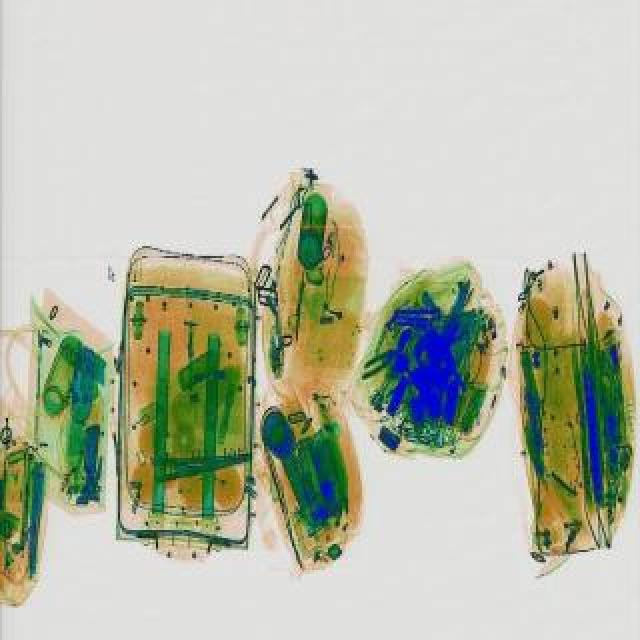wrench: (356, 344, 404, 376)
